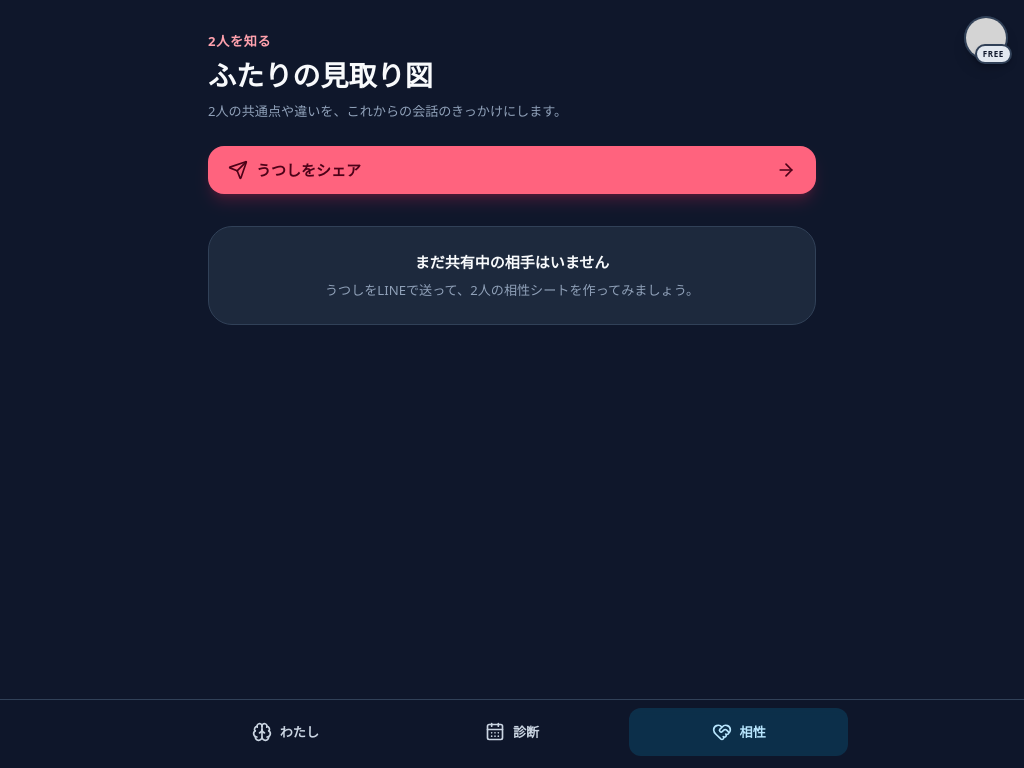
Scenario: App › 相性内のリンクからカテゴリを保ってわたしへ移動し、プロフィールを再取得しない
The image size is (1024, 768).
Click the link "うつしをシェア": (309, 170) [208, 146, 816, 194]
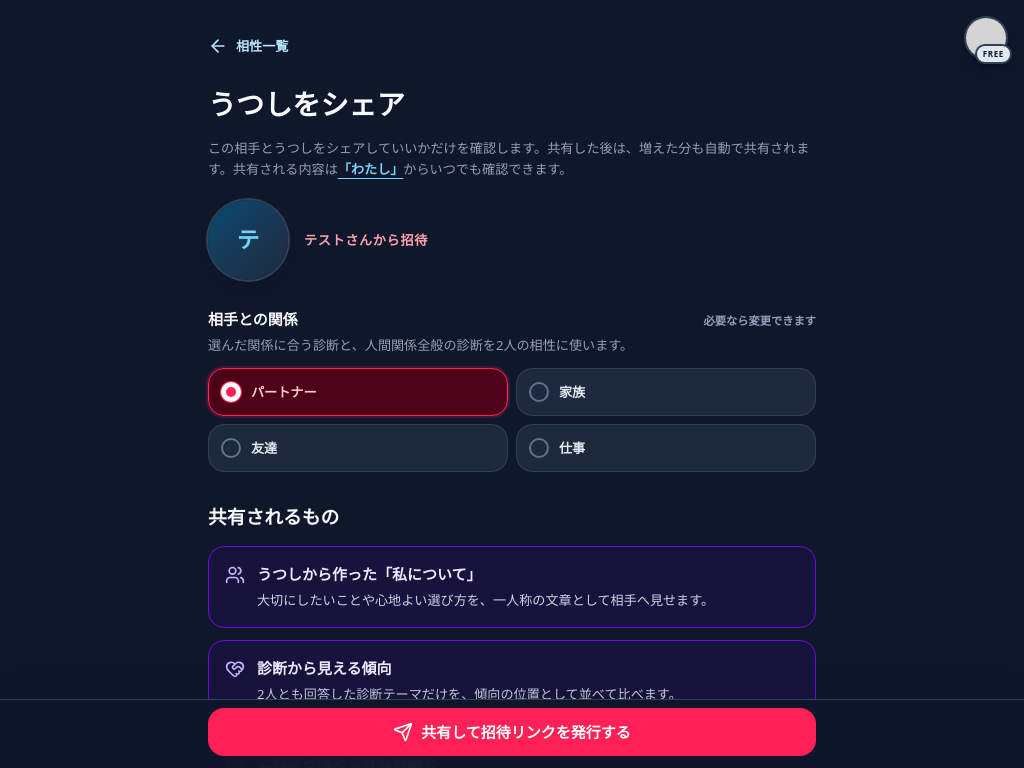
Check: the heading "うつしをシェア" is shown, box [208, 85, 405, 123]
Click the link "「わたし」": (371, 169) [338, 160, 403, 178]
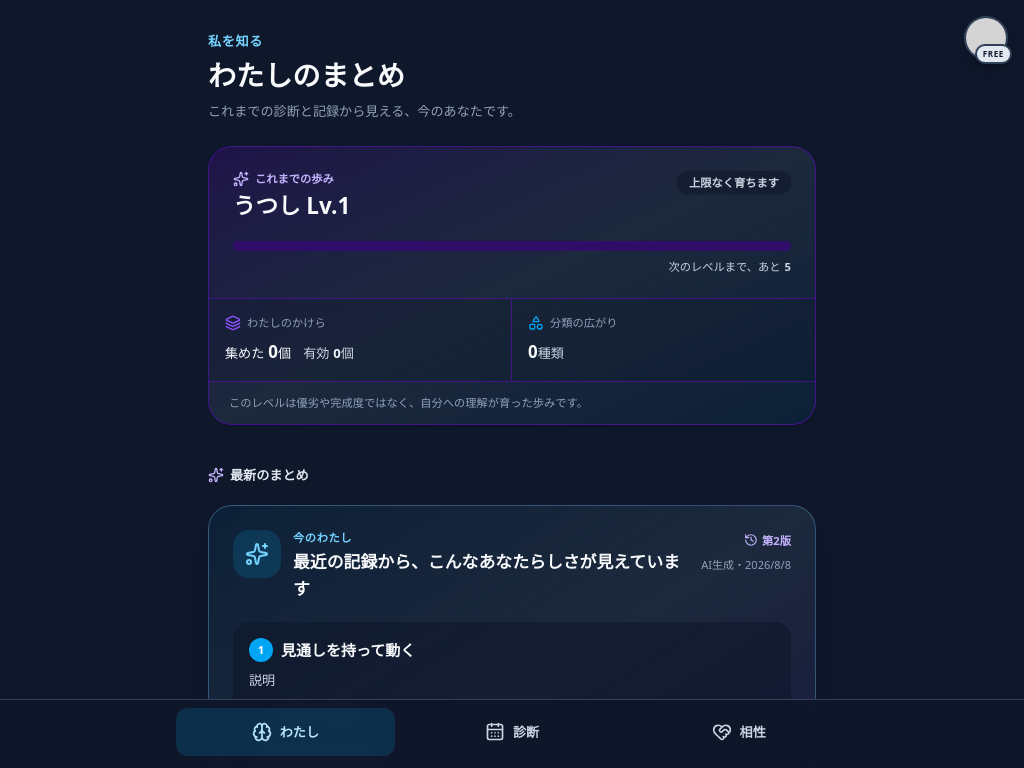
Check: the heading "わたしのまとめ" is shown, box [208, 56, 405, 94]
